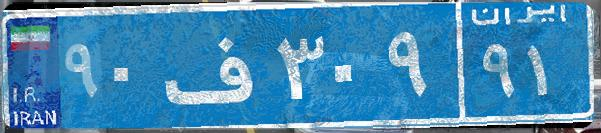0: (330, 28, 385, 110), (110, 28, 158, 105)
1: (525, 38, 570, 115)
3: (273, 28, 330, 110)
9: (385, 28, 445, 110), (57, 26, 110, 107), (475, 38, 525, 113)
ف: (158, 15, 273, 115)
